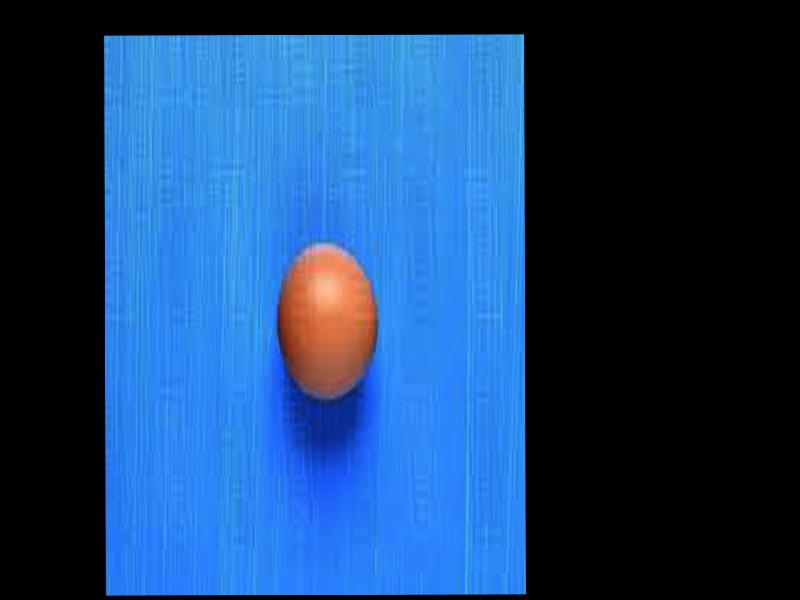Eggs: (277, 240, 377, 405)
